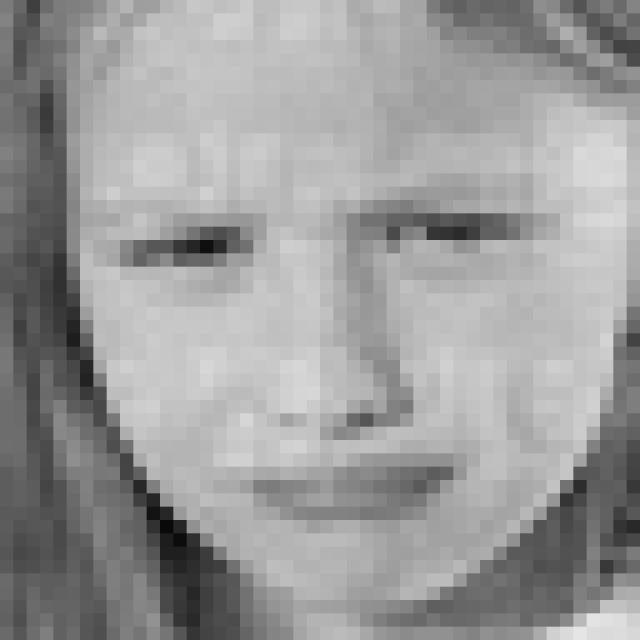sad: (76, 153, 575, 533)
